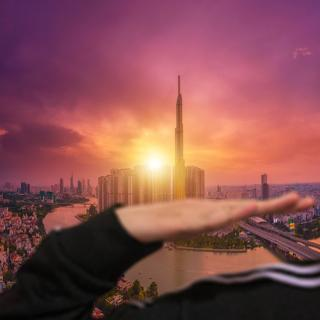Wait: (119, 189, 320, 254)
